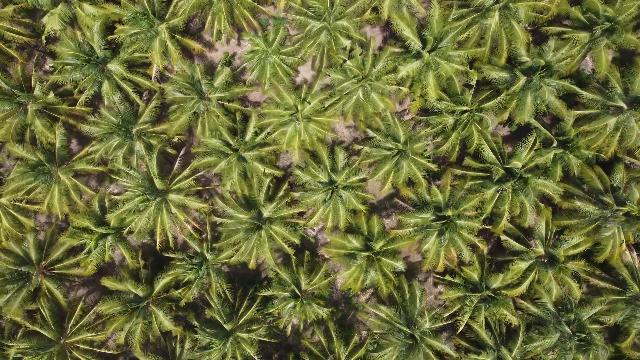trees: (449, 15, 603, 147), (2, 225, 109, 358), (105, 149, 221, 253), (461, 131, 570, 238), (429, 247, 532, 352), (495, 212, 598, 314), (209, 171, 306, 275), (90, 266, 197, 360), (193, 98, 288, 195), (400, 180, 494, 278), (5, 134, 105, 226), (415, 71, 511, 165), (315, 35, 409, 131), (317, 210, 413, 303), (3, 61, 92, 157), (552, 171, 640, 268), (278, 3, 380, 82), (347, 117, 438, 204), (290, 144, 376, 236), (361, 278, 457, 360), (181, 282, 277, 360), (261, 256, 342, 345), (110, 3, 199, 83), (77, 87, 164, 166), (259, 84, 339, 167), (437, 3, 531, 69), (237, 28, 303, 94), (188, 2, 269, 46), (50, 42, 109, 92)
